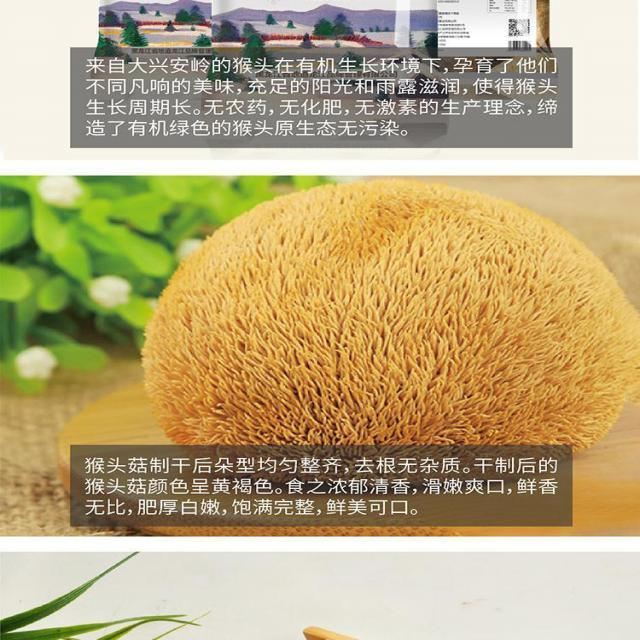Hericium erinaceus: (141, 179, 637, 463)
